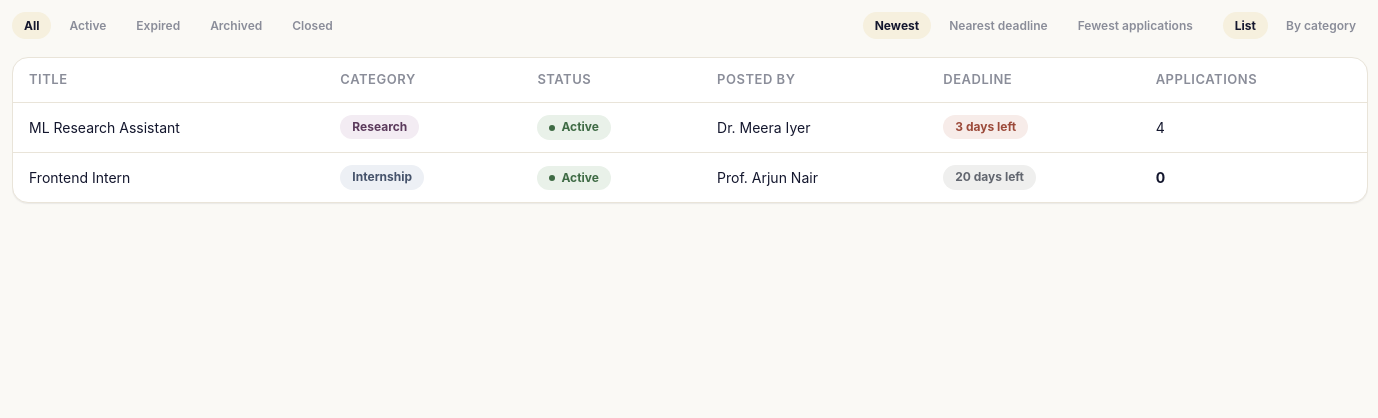
Test: OpportunitiesTab › groups rows by category and hides the Category column when 'By category' is selected
Expected: the text "ML Research Assistant" is shown, [13, 102, 324, 152]
Click the button "By category". click: point(1321, 26)
box: [1274, 12, 1368, 39]
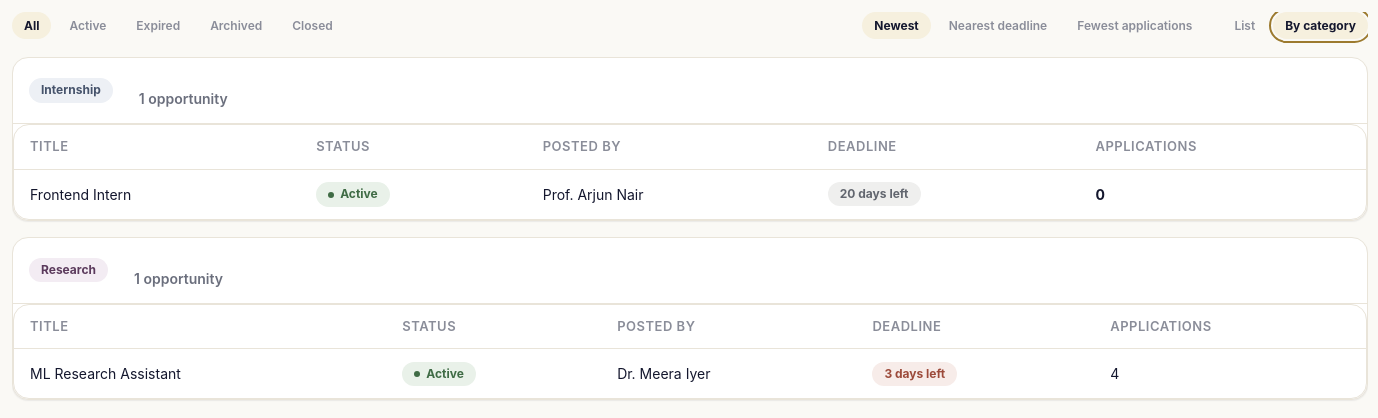
Now the text "1 opportunity" is shown 2 times, box [139, 90, 228, 107]; [134, 270, 223, 287]
